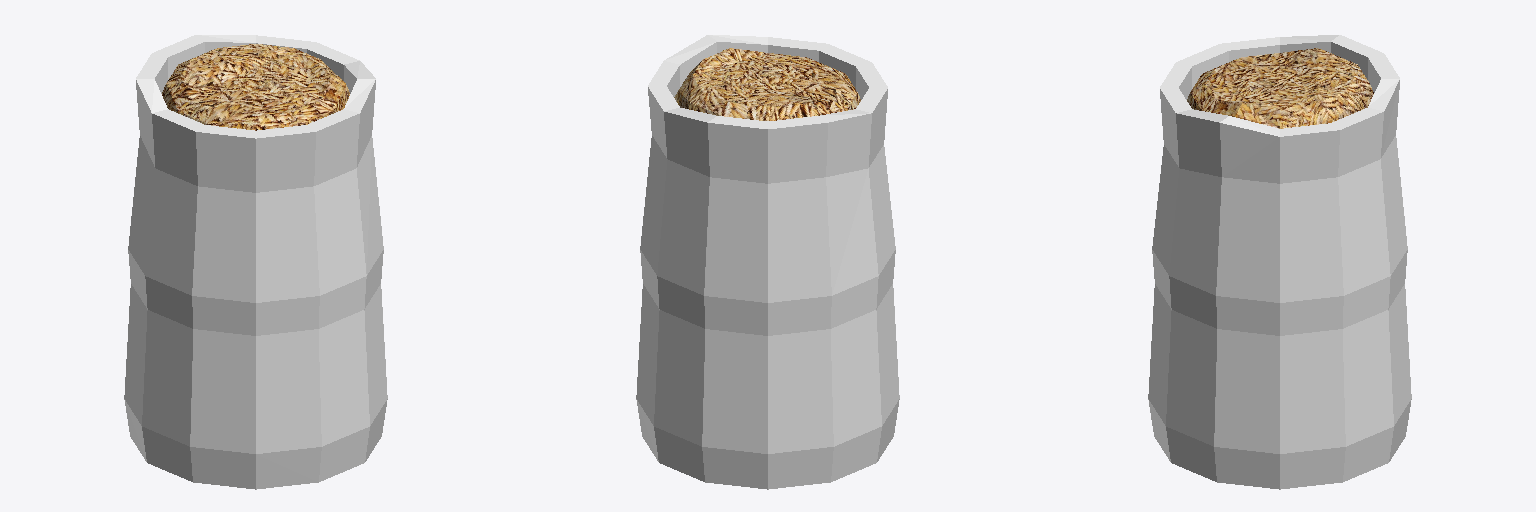
3 renders of one model, left to right at view 1: azimuth 30°, elevation 25°; view 2: azimuth 150°, elevation 25°; view 3: azimuth 270°, elevation 25°, orthographic.
Parts seen in each view (by area): view 1: Form10; view 2: Form10; view 3: Form10.
Boxes of the visible parts, box(x1,y1,x2,y2) form: Form10: box(124, 35, 387, 489); Form10: box(636, 35, 899, 489); Form10: box(1148, 35, 1411, 489).
Size of the model in its own units: 2.49 by 3.76 by 2.49.
2 materials, 1 textured.